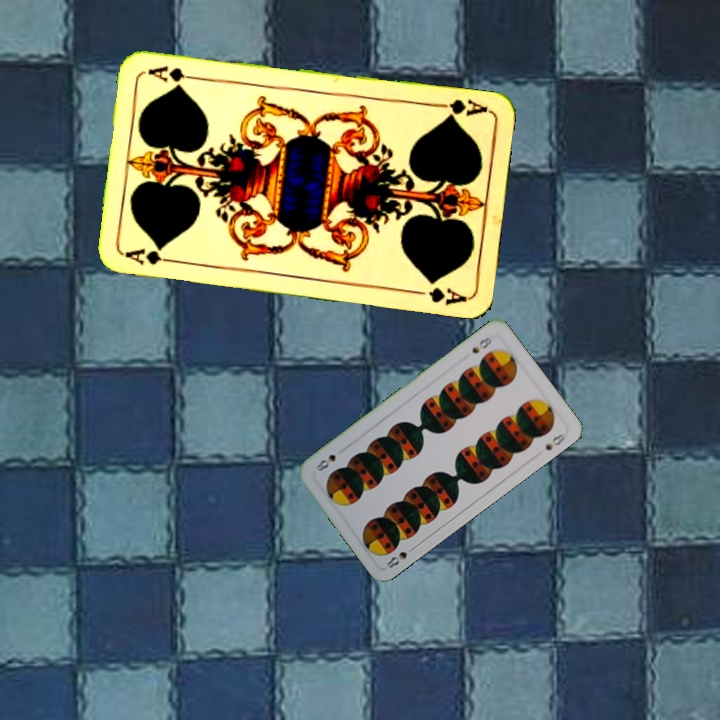GA: (431, 95, 490, 121), (120, 244, 179, 268)
S8: (382, 542, 418, 573), (467, 332, 494, 356)
